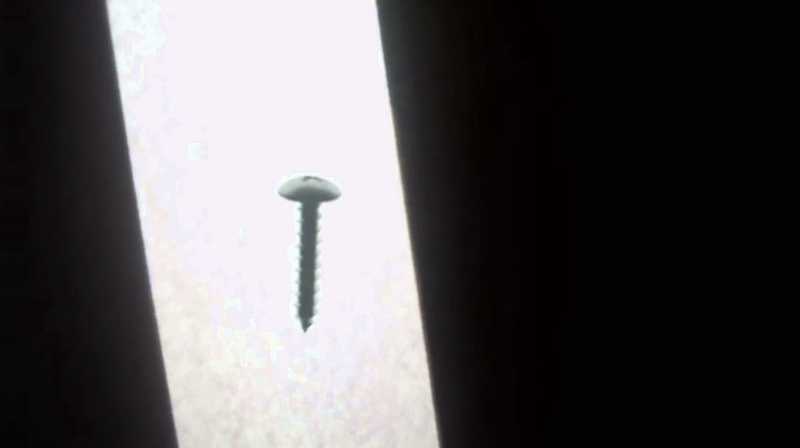S003: (273, 168, 346, 335)
